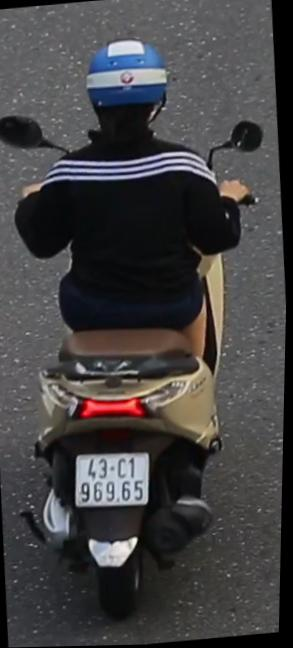LP: (72, 446, 158, 518)
helmet: (79, 29, 177, 161)
